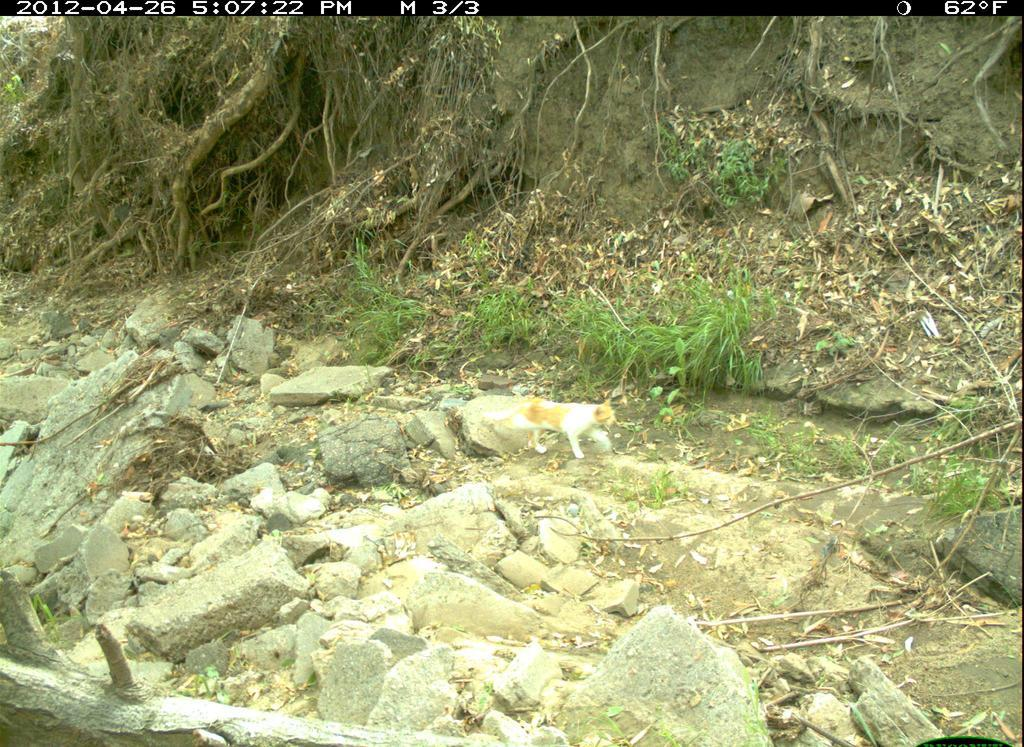cat: (373, 368, 643, 475)
